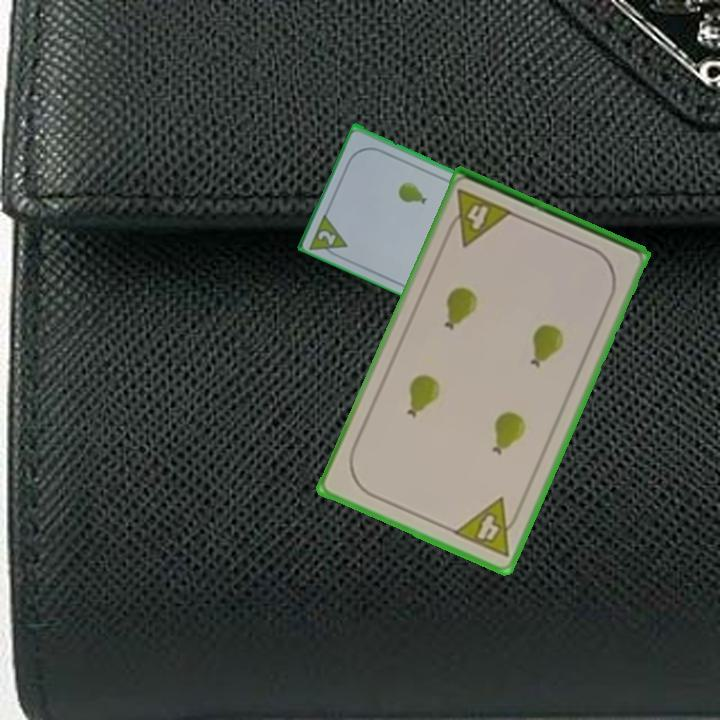2p: (306, 208, 351, 262)
4p: (449, 494, 526, 560), (442, 185, 516, 250)
